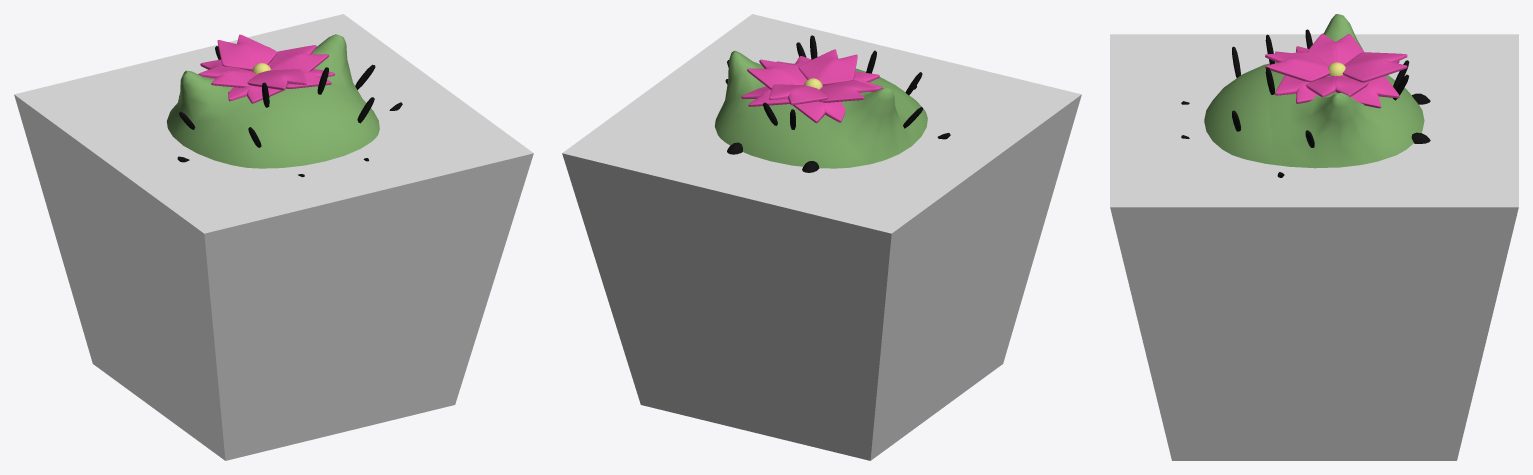
File: Coolcactus_Vera_20220216.fbx
The picture shows the model from 3 angles, left to right: view 1: azimuth 30°, elevation 25°; view 2: azimuth 150°, elevation 25°; view 3: azimuth 270°, elevation 25°; orthographic projection. The views are drawn at different scales.
Parts seen in each view (by area): view 1: Cube, Cube.001, Plane.001, Plane.002, Plane.004, Plane; view 2: Cube, Cube.001, Plane.001, Plane, Plane.003, Plane.002; view 3: Cube, Cube.001, Plane.001, Plane, Plane.002, Plane.003, Plane.004.
Part boxes in pixels (bbox=[...]): Cube: bbox=[14, 14, 533, 460]; Cube.001: bbox=[166, 34, 379, 168]; Plane.001: bbox=[199, 45, 328, 87]; Plane.002: bbox=[217, 34, 276, 70]; Plane.004: bbox=[228, 69, 334, 103]; Plane: bbox=[247, 69, 306, 90]; Cube: bbox=[562, 14, 1081, 460]; Cube.001: bbox=[714, 50, 927, 168]; Plane.001: bbox=[747, 59, 876, 102]; Plane: bbox=[798, 49, 857, 85]; Plane.003: bbox=[741, 86, 845, 123]; Plane.002: bbox=[769, 84, 828, 104]; Cube: bbox=[1110, 34, 1518, 460]; Cube.001: bbox=[1204, 14, 1424, 168]; Plane.001: bbox=[1306, 33, 1368, 97]; Plane: bbox=[1265, 52, 1330, 82]; Plane.002: bbox=[1342, 52, 1407, 82]; Plane.003: bbox=[1339, 60, 1399, 108]; Plane.004: bbox=[1275, 46, 1317, 103].
Bounding box in the file's own units: 364 × 343 × 364.
